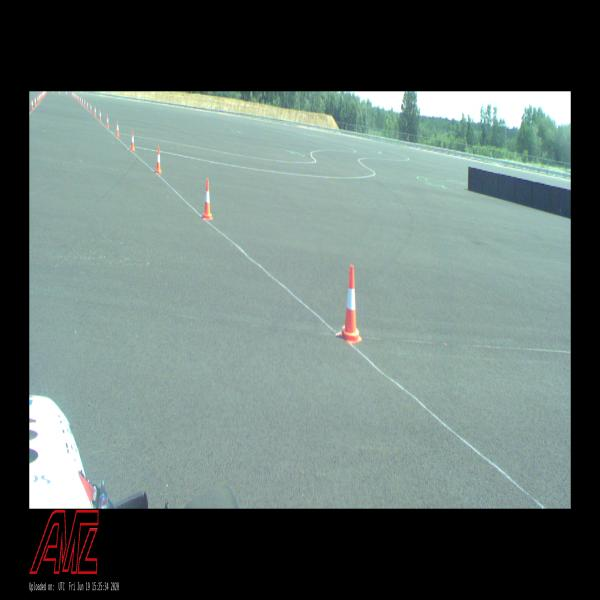orange_cone: (339, 265, 362, 344), (202, 178, 213, 220), (155, 146, 162, 174), (130, 130, 135, 150), (116, 121, 120, 137), (106, 115, 109, 128), (86, 101, 89, 109), (99, 110, 101, 121), (31, 98, 33, 109), (94, 106, 96, 116), (34, 96, 36, 106), (90, 103, 92, 112), (37, 95, 39, 104)
